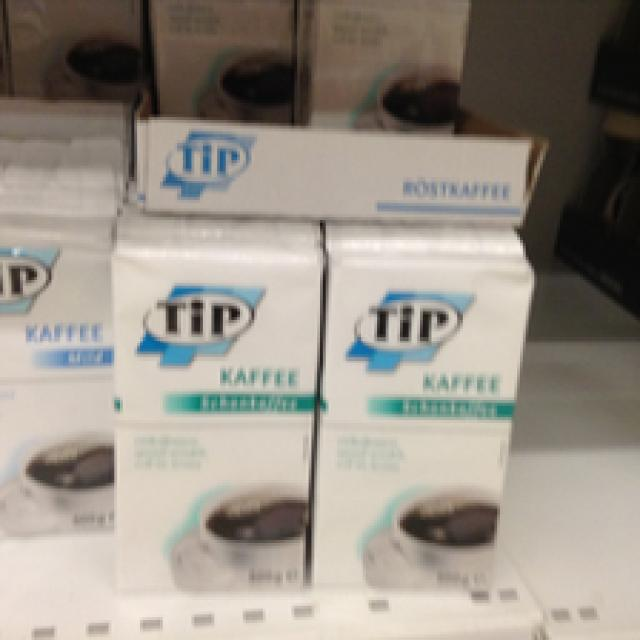groceries: (308, 220, 532, 589), (106, 220, 320, 589), (300, 3, 469, 128), (149, 3, 294, 120)
